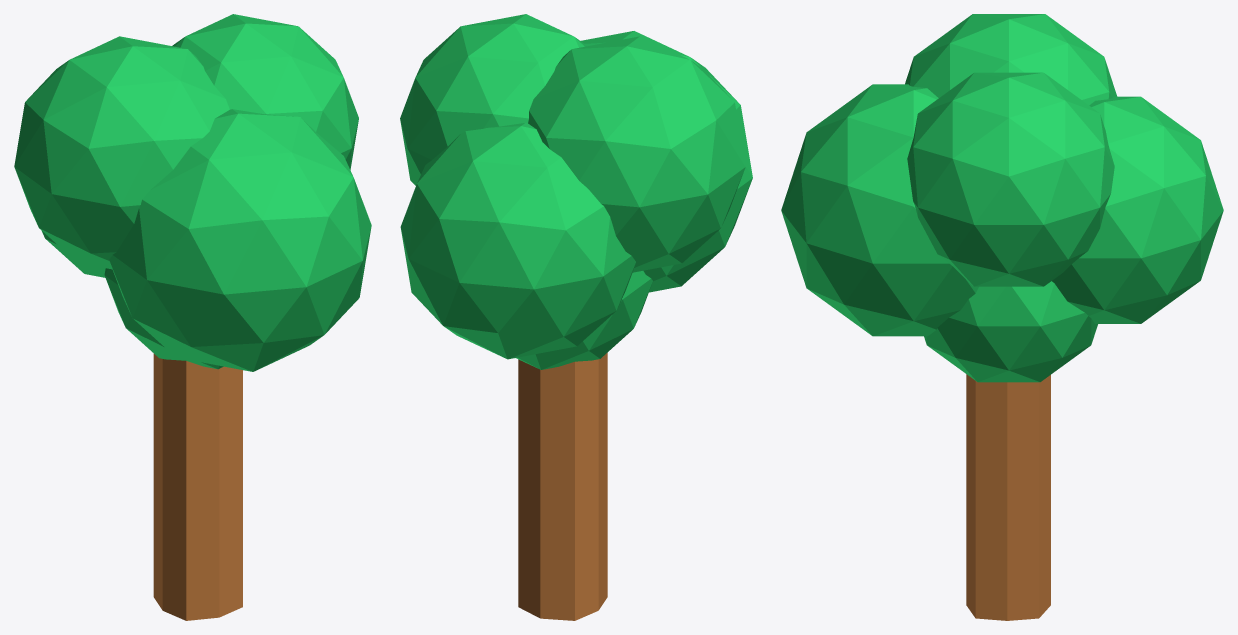
Rendered from Tree.dae.
3 views of the same model, side by side, from view 1: azimuth 30°, elevation 25°; view 2: azimuth 150°, elevation 25°; view 3: azimuth 270°, elevation 25° (orthographic). The views are drawn at different scales.
Parts seen in each view (by area): view 1: Icosphere_004, Icosphere_002, Cube, Icosphere_001, Icosphere; view 2: Icosphere_003, Icosphere_002, Cube, Icosphere_001, Icosphere_004, Icosphere; view 3: Icosphere_001, Icosphere_004, Icosphere_003, Cube, Icosphere, Icosphere_002.
Part boxes in pixels (x1,y1,x2,y2): Icosphere_004: (109, 109, 371, 371); Icosphere_002: (14, 36, 229, 269); Cube: (153, 353, 242, 620); Icosphere_001: (172, 14, 358, 169); Icosphere: (104, 268, 223, 369); Icosphere_003: (400, 123, 635, 359); Icosphere_002: (528, 36, 745, 272); Cube: (518, 353, 607, 620); Icosphere_001: (400, 14, 587, 185); Icosphere_004: (581, 31, 752, 292); Icosphere: (516, 271, 652, 369); Icosphere_001: (907, 72, 1114, 286); Icosphere_004: (781, 84, 978, 336); Icosphere_003: (1052, 96, 1223, 323); Cube: (966, 374, 1050, 620); Icosphere: (924, 281, 1097, 382); Icosphere_002: (905, 14, 1117, 105).
Size of the model in its own units: 10.9 by 13.94 by 19.3.
